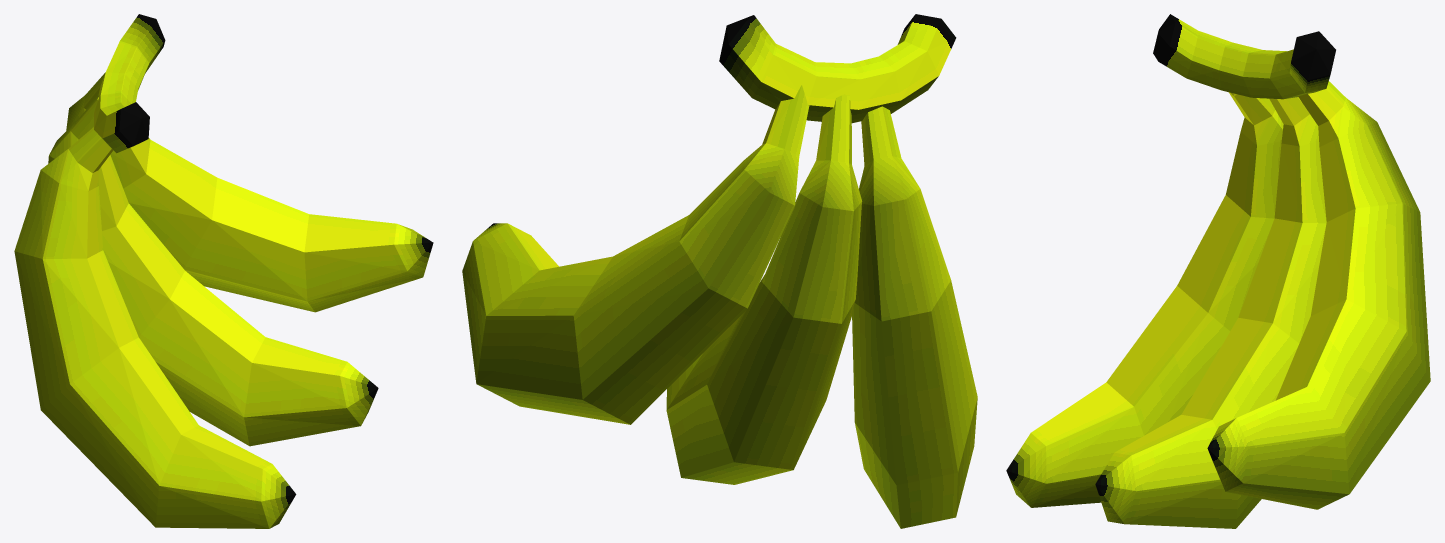
The model's file is Banana.obj.
3 renders of one model, left to right at view 1: azimuth 30°, elevation 25°; view 2: azimuth 150°, elevation 25°; view 3: azimuth 270°, elevation 25°, orthographic. The views are drawn at different scales.
Visible parts, largest first — view 1: Inst3D14_RefRep.208; view 2: Inst3D14_RefRep.208; view 3: Inst3D14_RefRep.208.
Part boxes in pixels (x1,y1,x2,y2): Inst3D14_RefRep.208: (14, 14, 433, 528); Inst3D14_RefRep.208: (462, 14, 977, 528); Inst3D14_RefRep.208: (1006, 14, 1430, 528).
Size of the model in its own units: 4.63 by 5.01 by 3.92.
